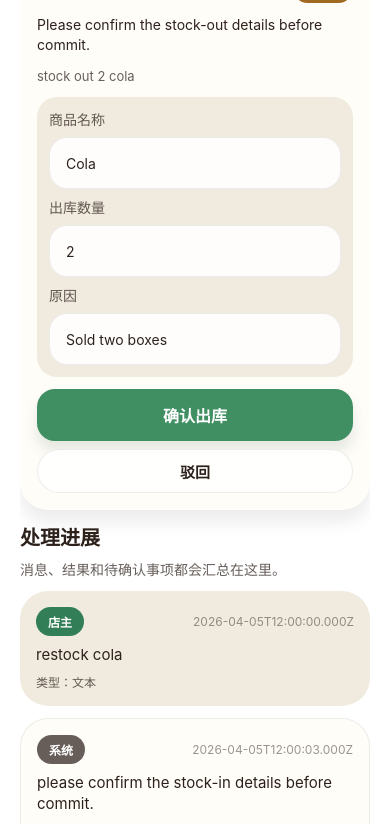
Test case: ChatScreen › shows a recoverable error when stock-out approval fails
(page scrolled)
Step 1. Click the button with test id "confirm-approve-conf_stock_out_1" → (195, 415), box 37,389 -> 353,441
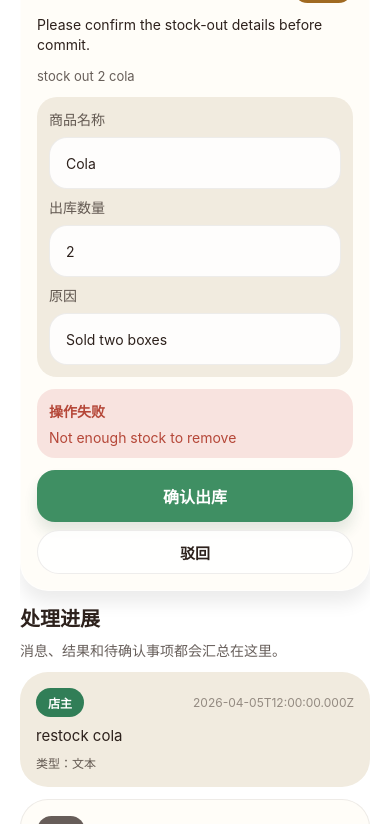
Check: the button with test id "confirm-approve-conf_stock_out_1" is shown, box 37,470 -> 353,522
Check: the text "Not enough stock to remove" is shown, box 49,429 -> 236,446
